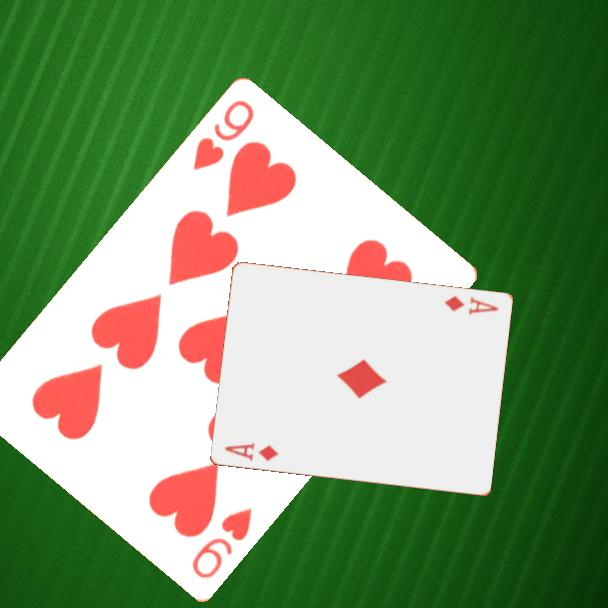d01: (440, 293, 501, 318), (221, 439, 281, 464)
h09: (188, 504, 256, 583), (189, 97, 257, 175)
